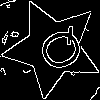Q: (27, 22, 89, 79)
